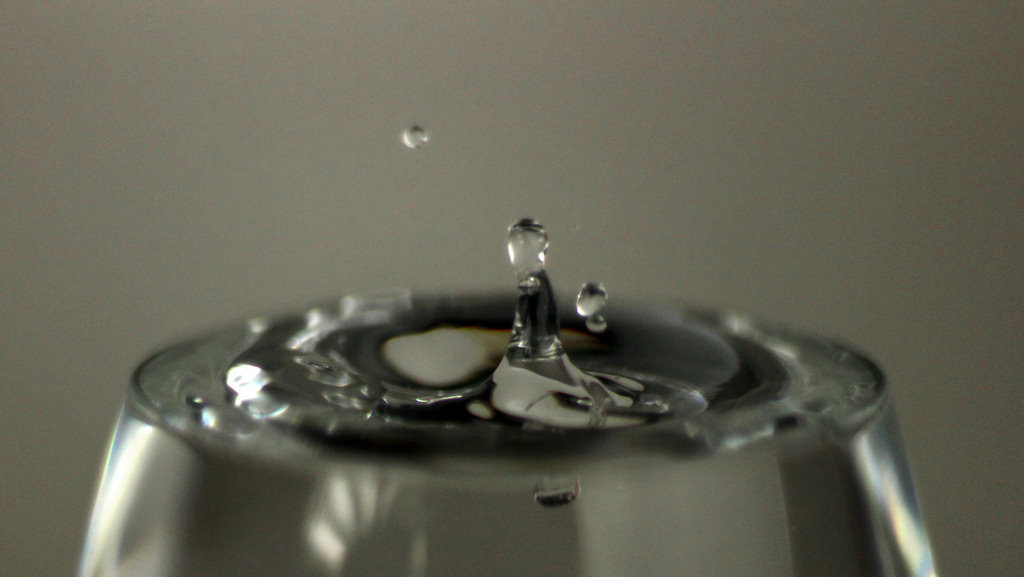glass of water: (142, 329, 934, 570)
